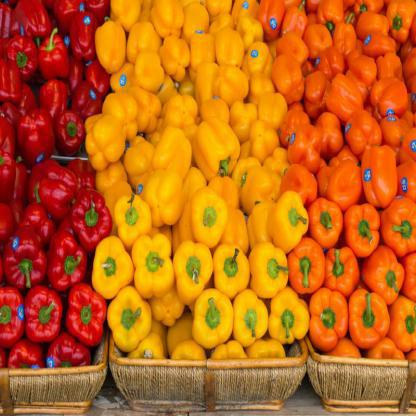capsicum: (356, 125, 403, 218)
